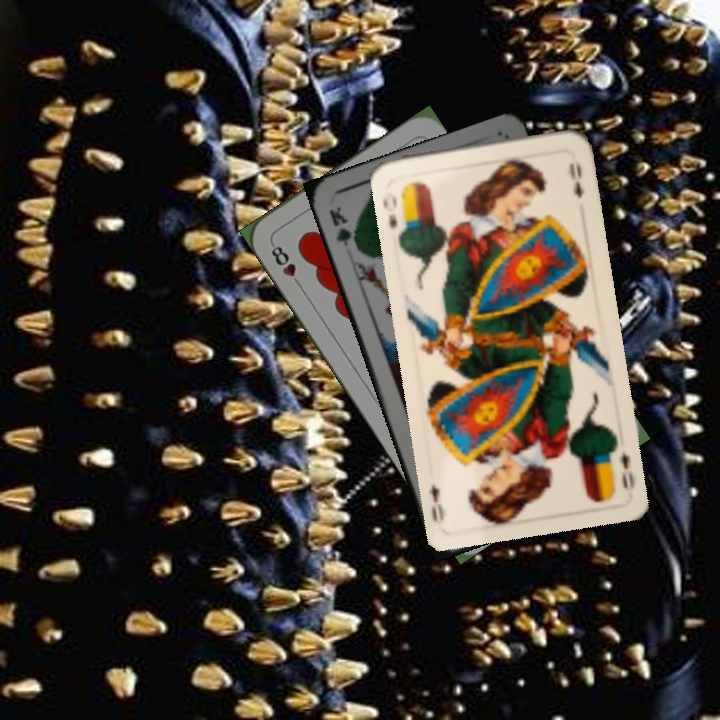EO: (378, 188, 400, 231), (616, 447, 637, 492)
GK: (325, 203, 362, 253)
H8: (267, 239, 305, 291)
